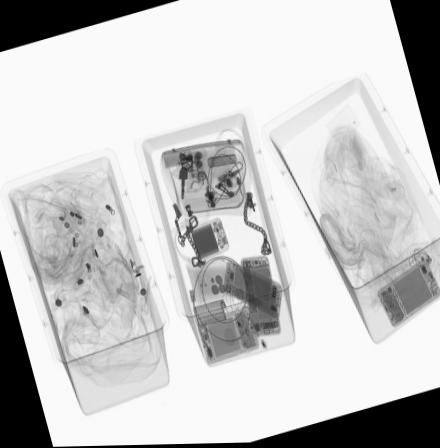Powerbank: (186, 218, 229, 263)
